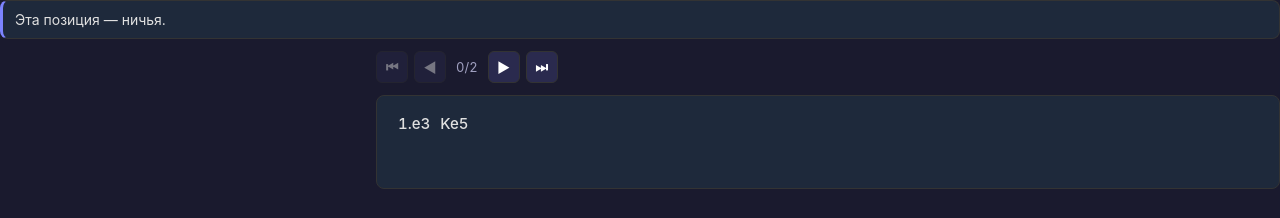
Test: <InlinePgnViewer> › PGN с pre-game комментарием → leading НАД доской на ply=0 (regression KS-2035)
Expected: the text with test id "inline-pgn-viewer-leading-comment-above-board" shows "Эта позиция", [15,11,166,28]
Click the button with test id "inline-pgn-viewer-next" at (504, 67), box [488,51,520,83]
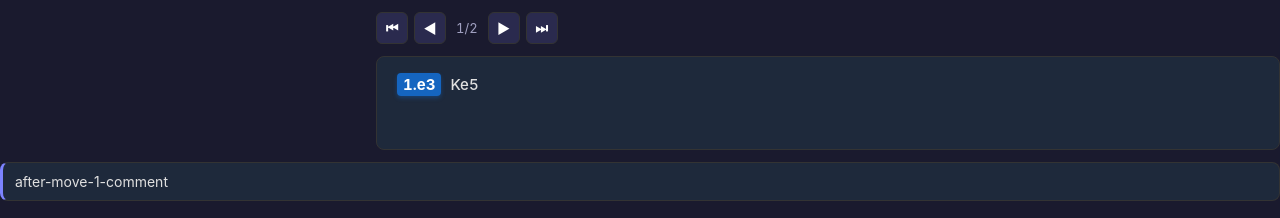
Expected: the text with test id "inline-pgn-viewer-leading-comment-above-board" is gone
Expected: the text with test id "inline-pgn-viewer-current-comment" reads "after-move-1-comment", [15,173,168,190]
